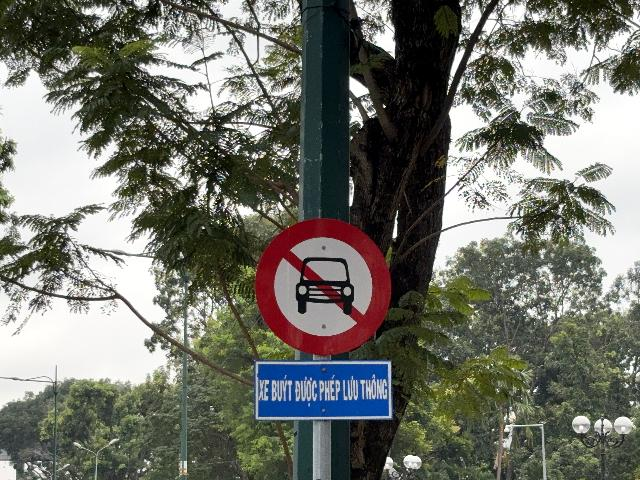cam-o-to: (255, 218, 391, 355)
